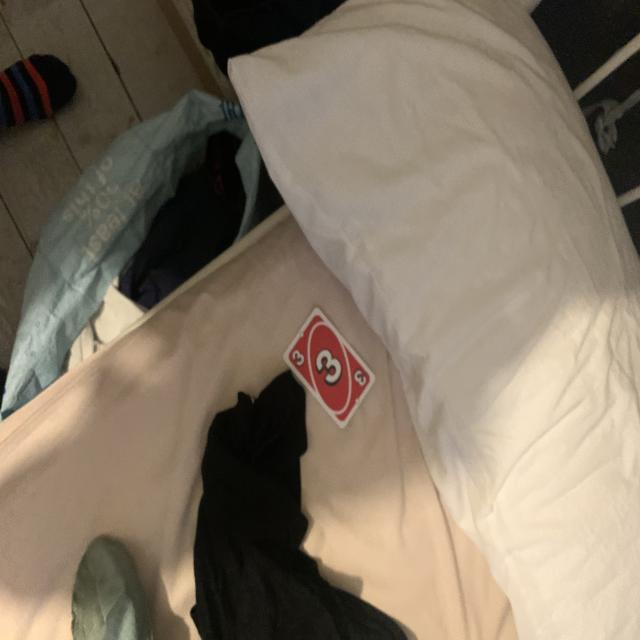lred-3: (287, 345, 308, 371)
